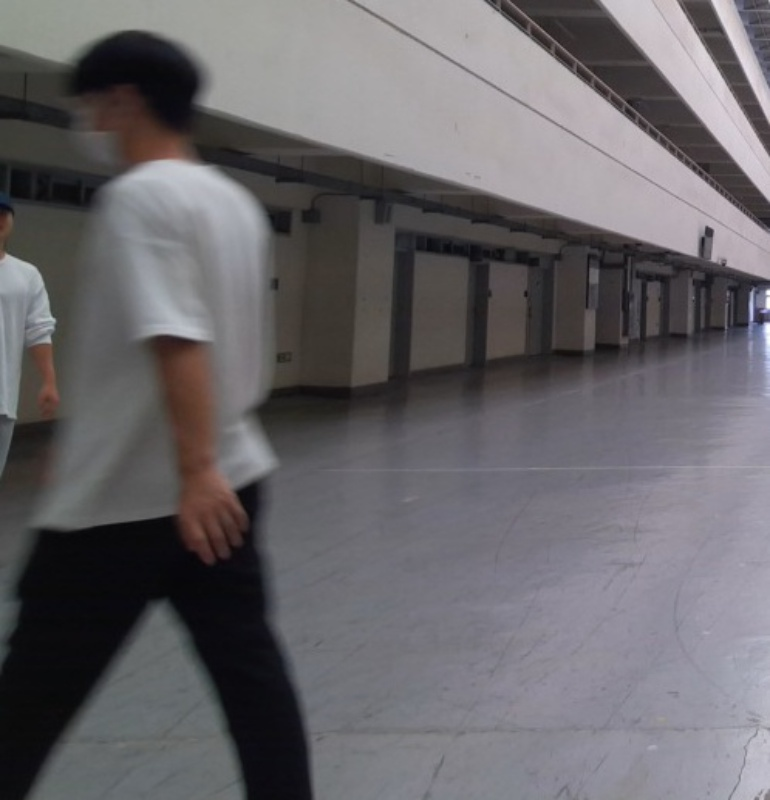person: (0, 28, 317, 799)
